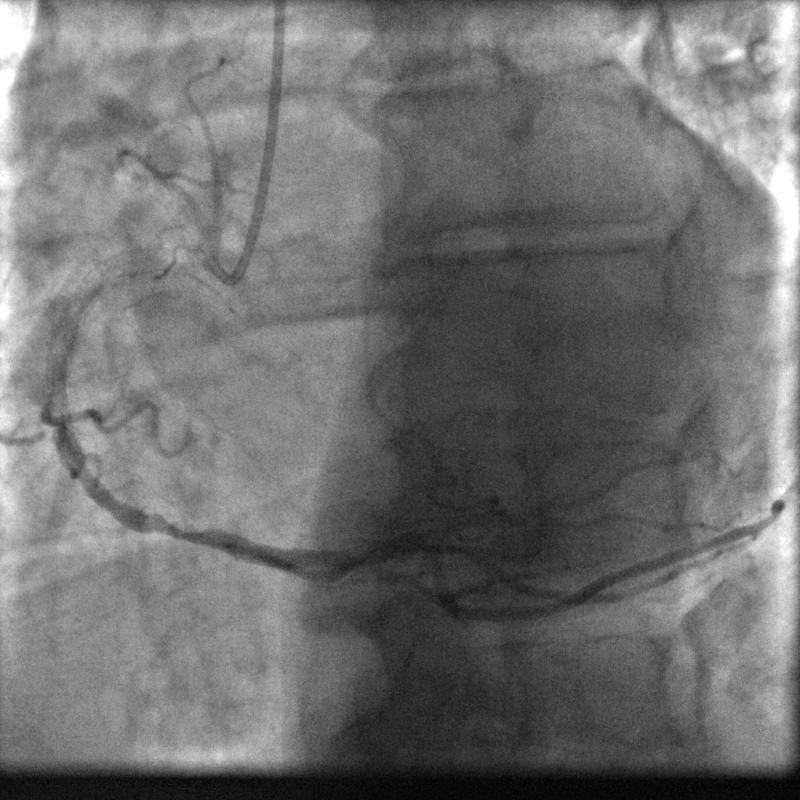Stenosis: (139, 514, 216, 551)
